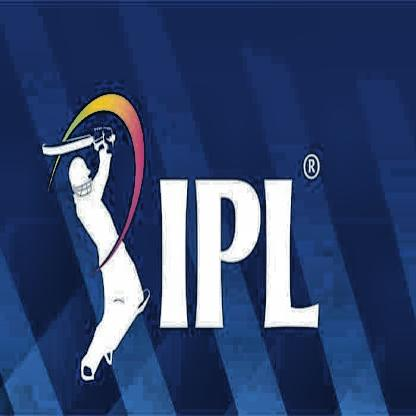IPL: (41, 85, 151, 382), (159, 177, 320, 330)
